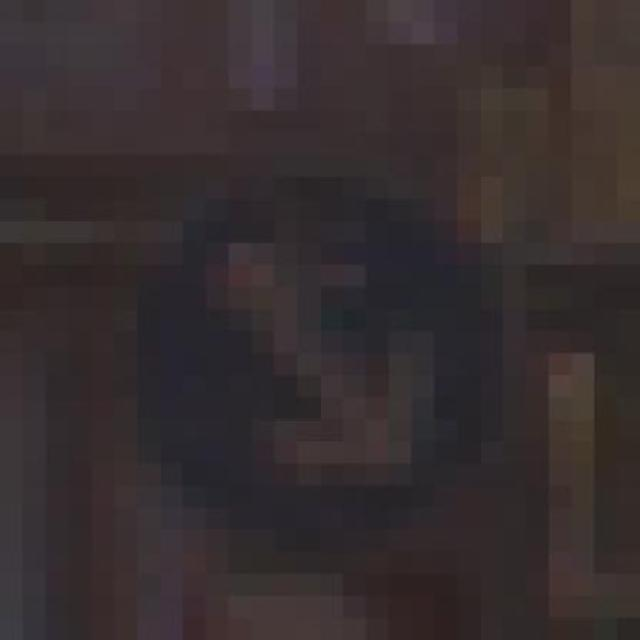Keep-Right: (137, 132, 503, 530)
